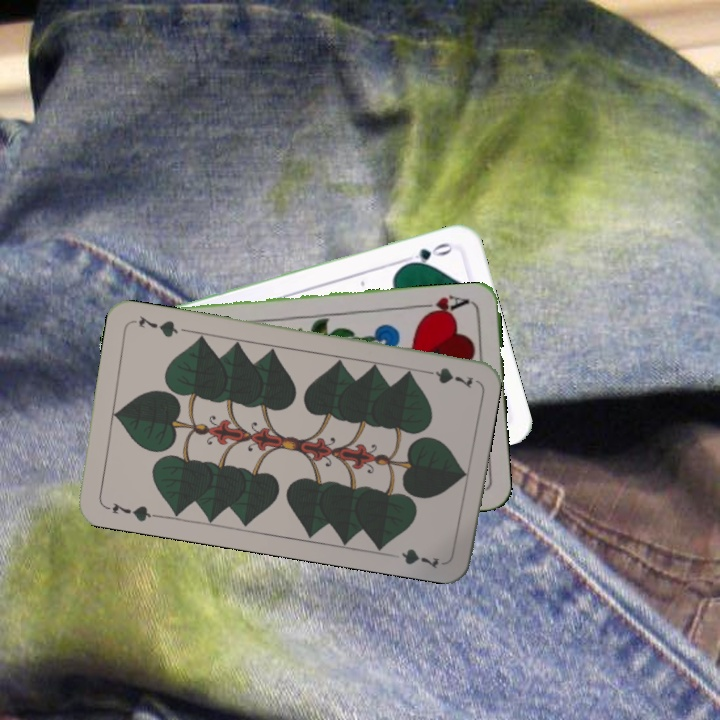G7: (417, 363, 476, 391), (100, 498, 159, 524)
GO: (399, 238, 457, 269)
HA: (414, 291, 472, 320)
